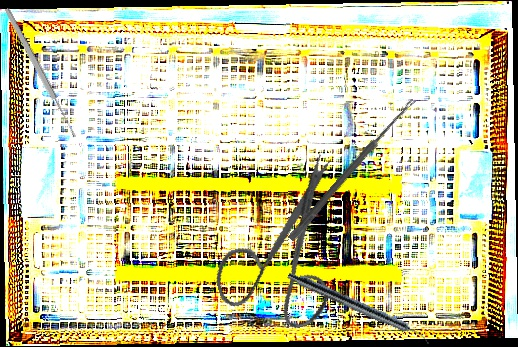Handpiece: (284, 269, 434, 347)
Iris Scissors: (189, 149, 374, 347)
Surgical Spoon: (287, 96, 417, 243), (2, 7, 79, 139)
